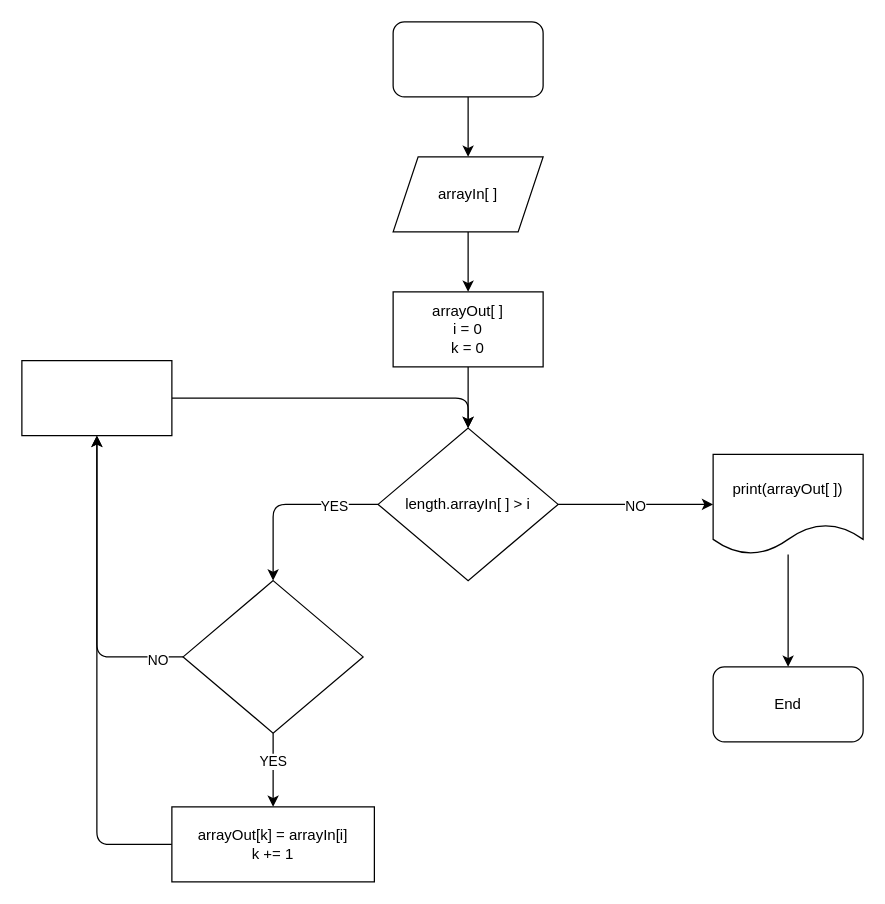
This 885x904 diagram has some shape labels left out. The box of each missing label's shape, as (x1, y1, x2, y2) in pixels:
i += 1: (21, 359, 172, 436)
length.arrayIn[i] <= 3: (182, 579, 363, 733)
Start: (392, 21, 543, 97)
